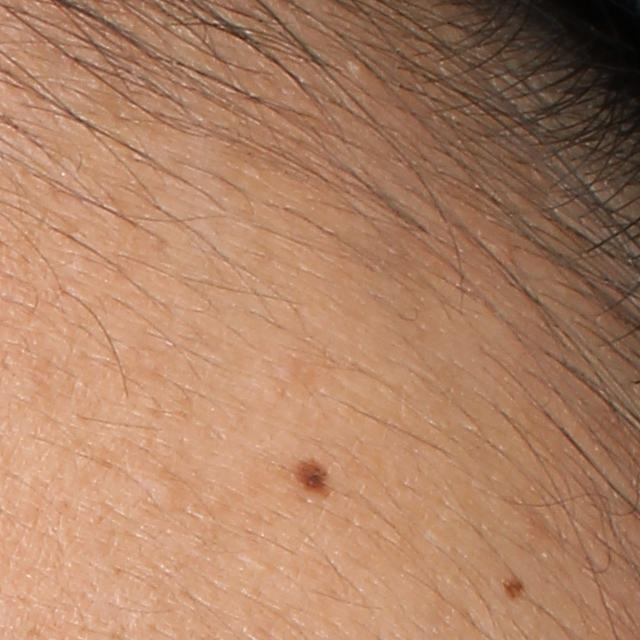comedo: (150, 477, 192, 512), (344, 53, 373, 83)
nevus: (289, 455, 335, 496), (495, 576, 527, 598)
